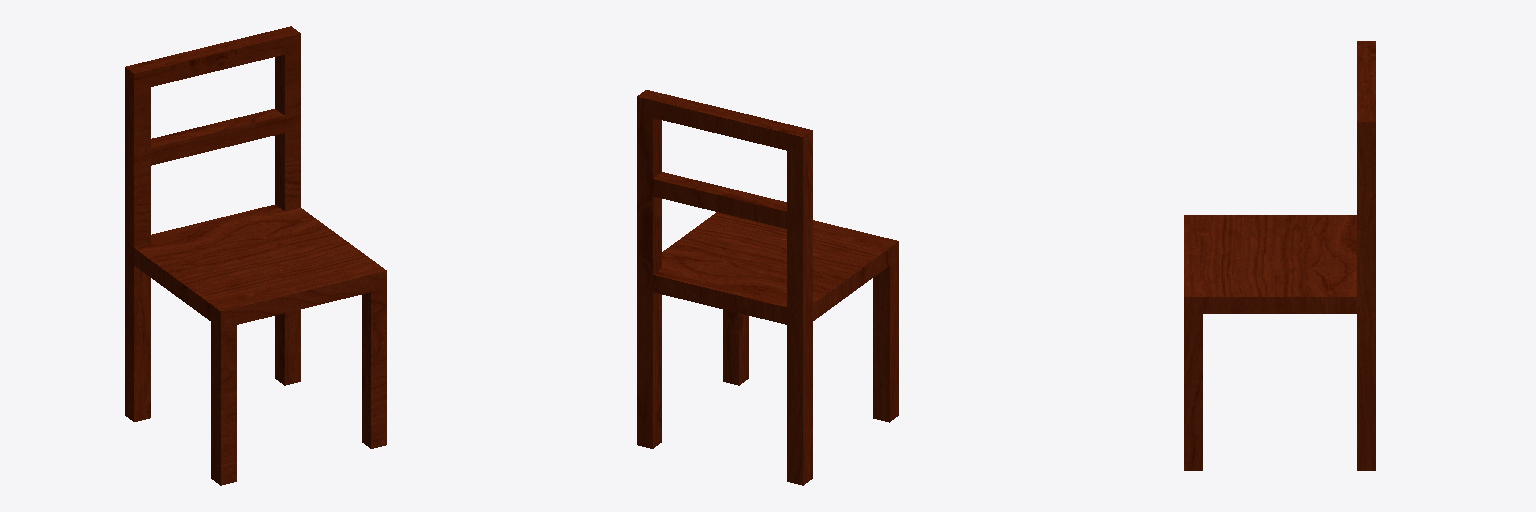
3 renders of one model, left to right at view 1: azimuth 30°, elevation 25°; view 2: azimuth 150°, elevation 25°; view 3: azimuth 270°, elevation 25°, orthographic.
Visible parts, largest first — view 1: Plane; view 2: Plane; view 3: Plane.
Part boxes in pixels (bbox=[...]): Plane: bbox=[125, 26, 386, 485]; Plane: bbox=[637, 90, 898, 485]; Plane: bbox=[1184, 41, 1375, 470].
Bounding box in the file's own units: 2 × 4 × 2.
Materials: 1 (1 with a texture image).